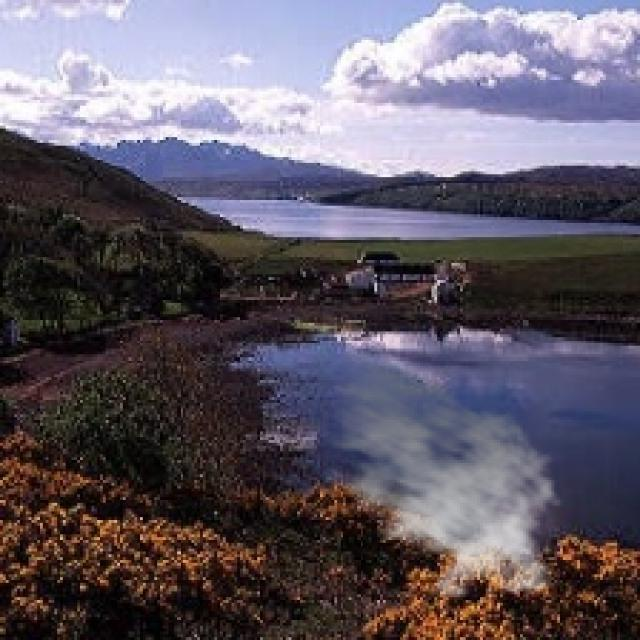Smoke: (308, 360, 566, 600)
